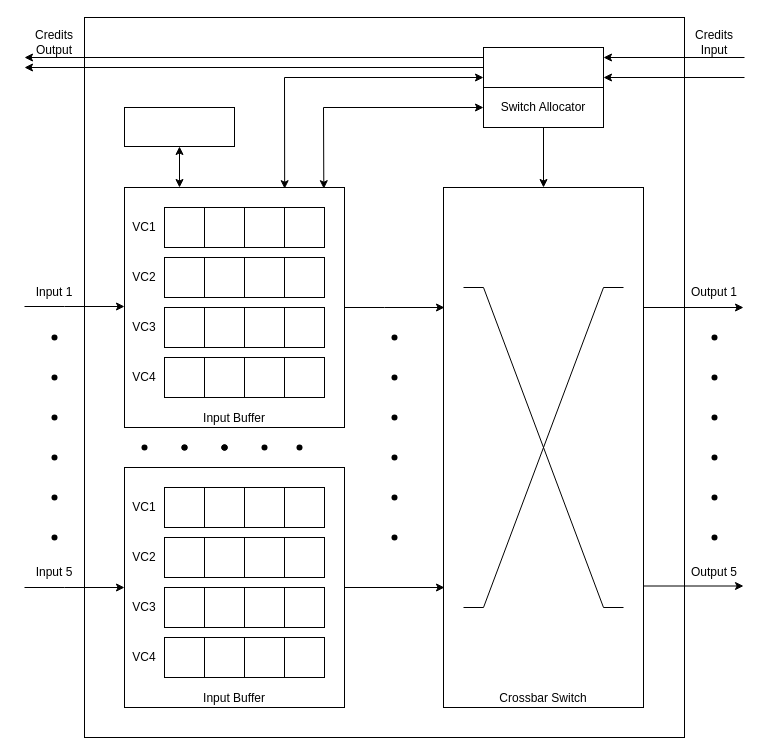
Some shapes in this 770 by 755 pixel diagram are drawn without their labels. The shapes that lost their labels are listed below. From the top down, each one's centre as x and y in pixels, then its label:
the point at 543,67: VC Allocator
the point at 179,126: Router Computation
